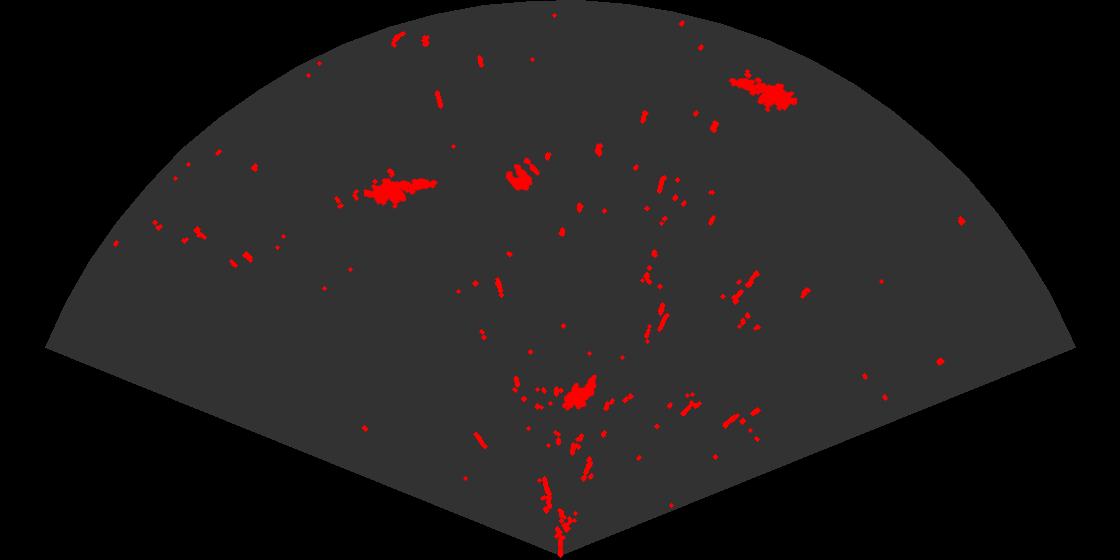AUV: (560, 373, 599, 412)
ball: (504, 156, 541, 192)
frogman: (727, 76, 797, 114), (364, 177, 439, 210)
